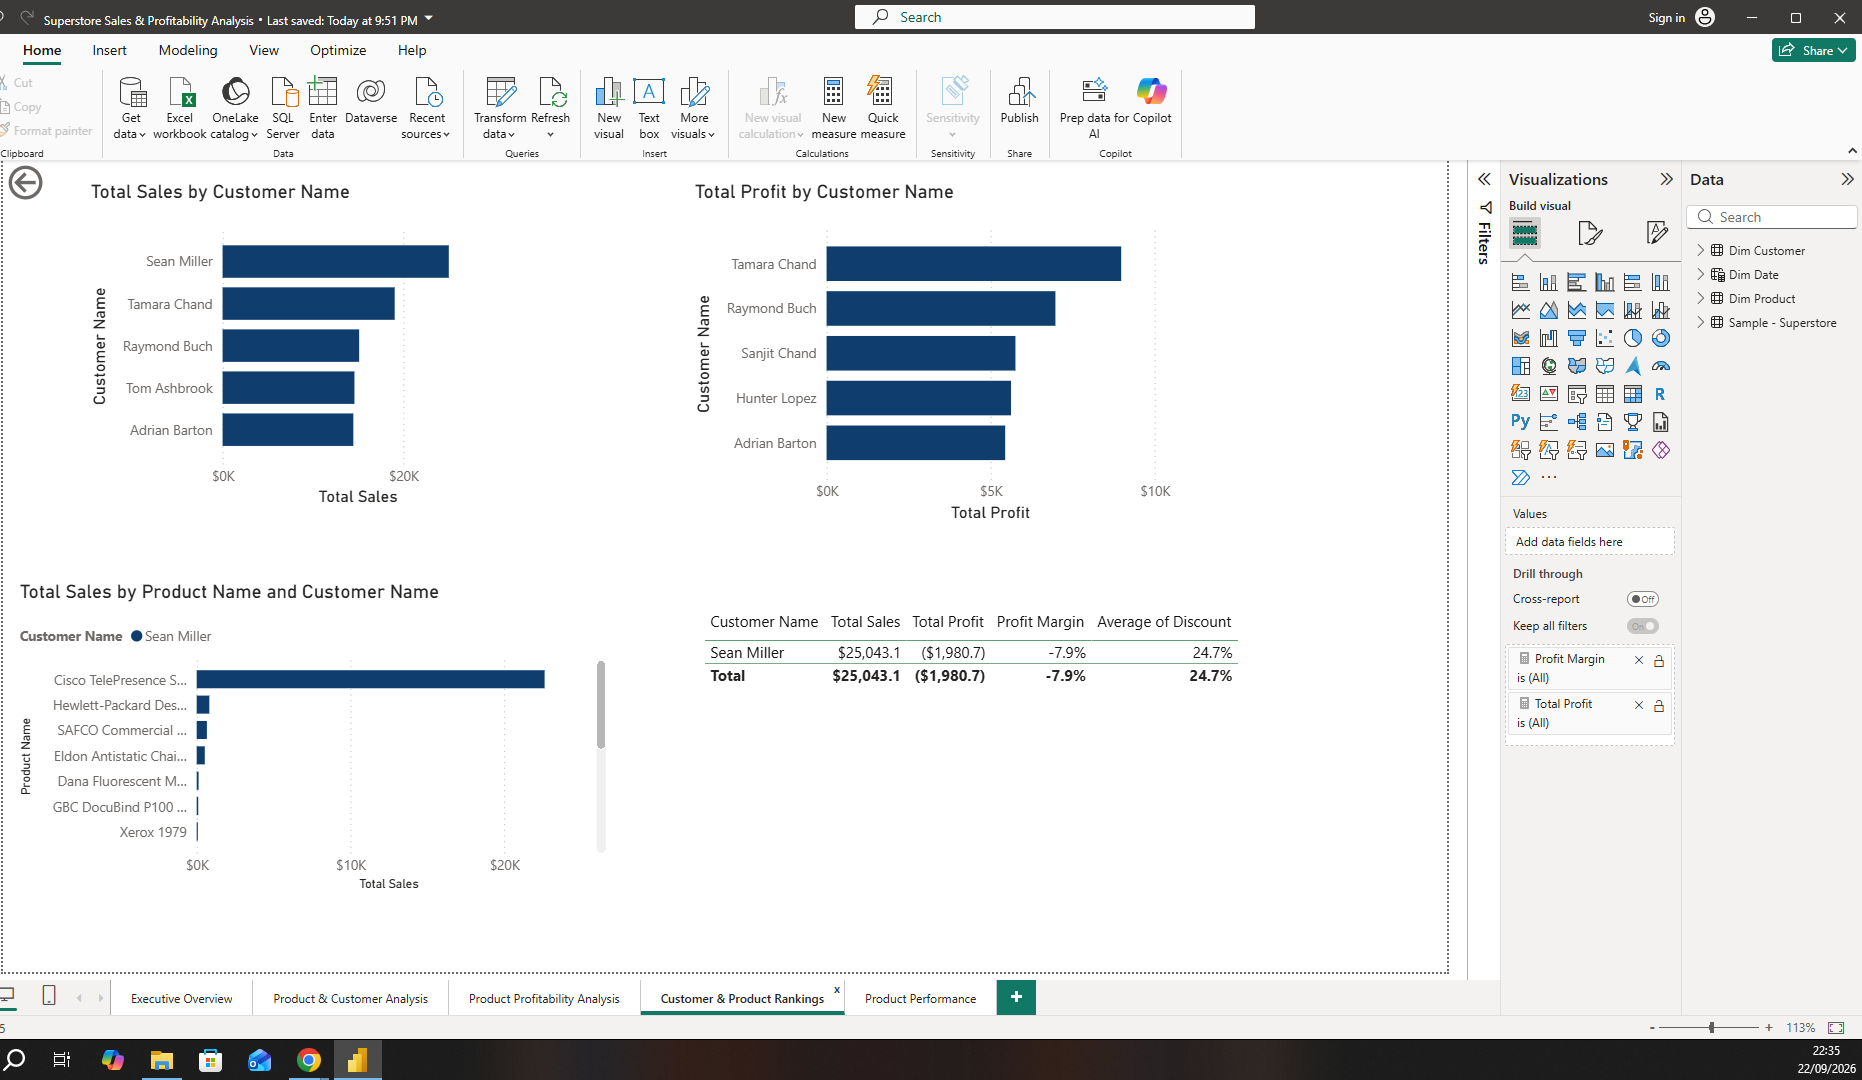

The page's visual inventory and layout, read from the dashboard file:
{"tool":"powerbi","page":{"name":"Customer & Product Rankings","canvas":[1280,720],"ordinal":3},"visuals":[{"type":"barChart","fields":{"Y":["Sample - Superstore.Total Sales"],"Category":["Sample - Superstore.Customer Name"]},"box":[72.9,17.5,381.3,293.7],"z":0},{"type":"barChart","fields":{"Category":["Sample - Superstore.Customer Name"],"Y":["Sample - Superstore.Total Profit"]},"box":[607.9,17.5,431.9,307.4],"z":1000},{"type":"tableEx","fields":{"Values":["Sample - Superstore.Customer Name","Sample - Superstore.Total Sales","Sample - Superstore.Total Profit","Sample - Superstore.Profit Margin","Avg(Sample - Superstore.Discount)"]},"box":[616.7,393.9,510.2,119.1],"z":2000},{"type":"barChart","fields":{"Category":["Sample - Superstore.Product Name"],"Y":["Sample - Superstore.Total Sales"],"Series":["Sample - Superstore.Customer Name"]},"box":[9.7,372.5,529.7,279.9],"z":3000},{"type":"actionButton","box":[0,0,100,40],"z":5000}]}

Visuals, with their boxes on the page's 1280x720 design canvas (x1, y1, x2, y2). These are canvas units, not pixel positions in the 1862x1080 screenshot, which may show the page scaled, cropped or inside an application window:
barChart - Sample - Superstore.Total Sales x Sample - Superstore.Customer Name: bbox(73, 18, 454, 311)
barChart - Sample - Superstore.Customer Name x Sample - Superstore.Total Profit: bbox(608, 18, 1040, 325)
tableEx - Sample - Superstore.Customer Name x Sample - Superstore.Total Sales: bbox(617, 394, 1127, 513)
barChart - Sample - Superstore.Product Name x Sample - Superstore.Total Sales: bbox(10, 372, 539, 652)
actionButton: bbox(0, 0, 100, 40)
